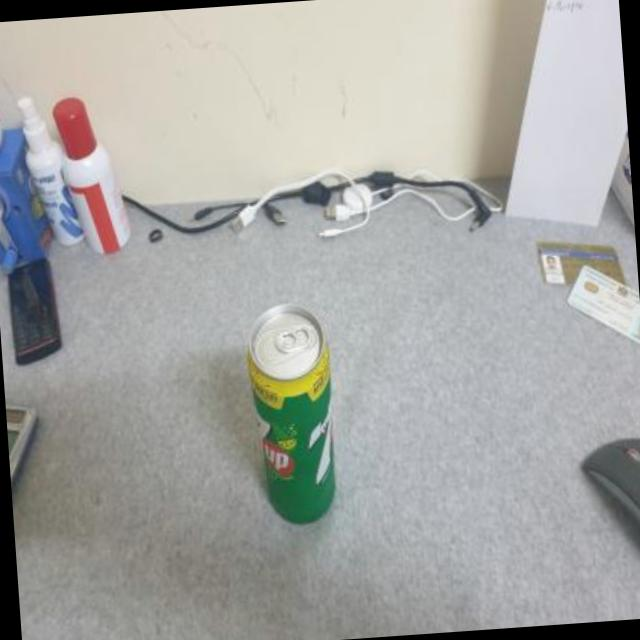metal: (246, 304, 334, 521)
